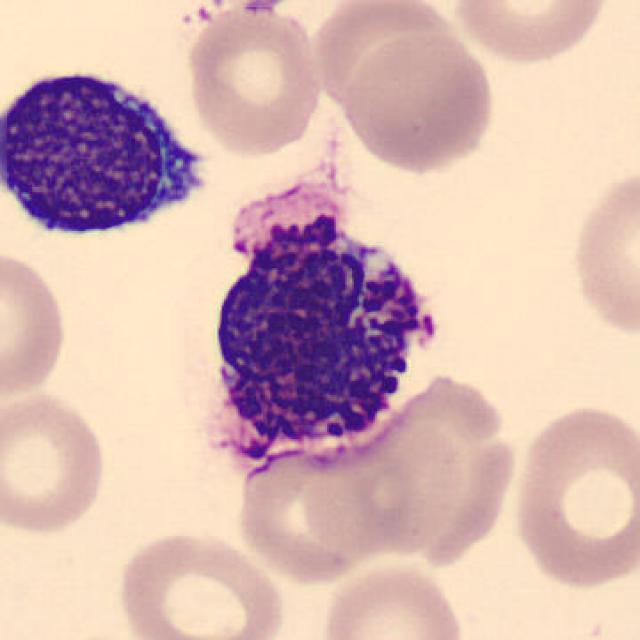Basophil: (181, 164, 457, 497), (0, 53, 217, 250)
RBC: (348, 367, 522, 568), (231, 425, 423, 587), (507, 397, 638, 594), (338, 30, 500, 175), (182, 3, 326, 158), (112, 525, 290, 640), (0, 388, 112, 539), (310, 0, 460, 111), (565, 160, 640, 344), (316, 557, 469, 640), (0, 245, 71, 404), (448, 0, 613, 67)
